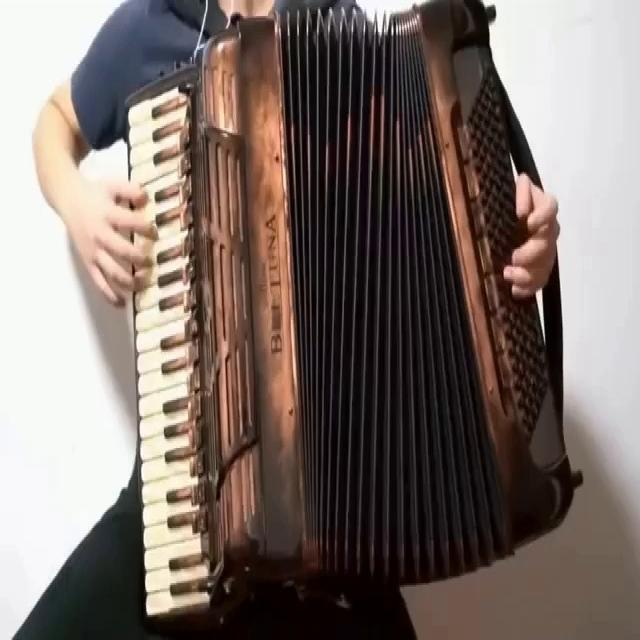Accordion: (128, 4, 576, 606)
